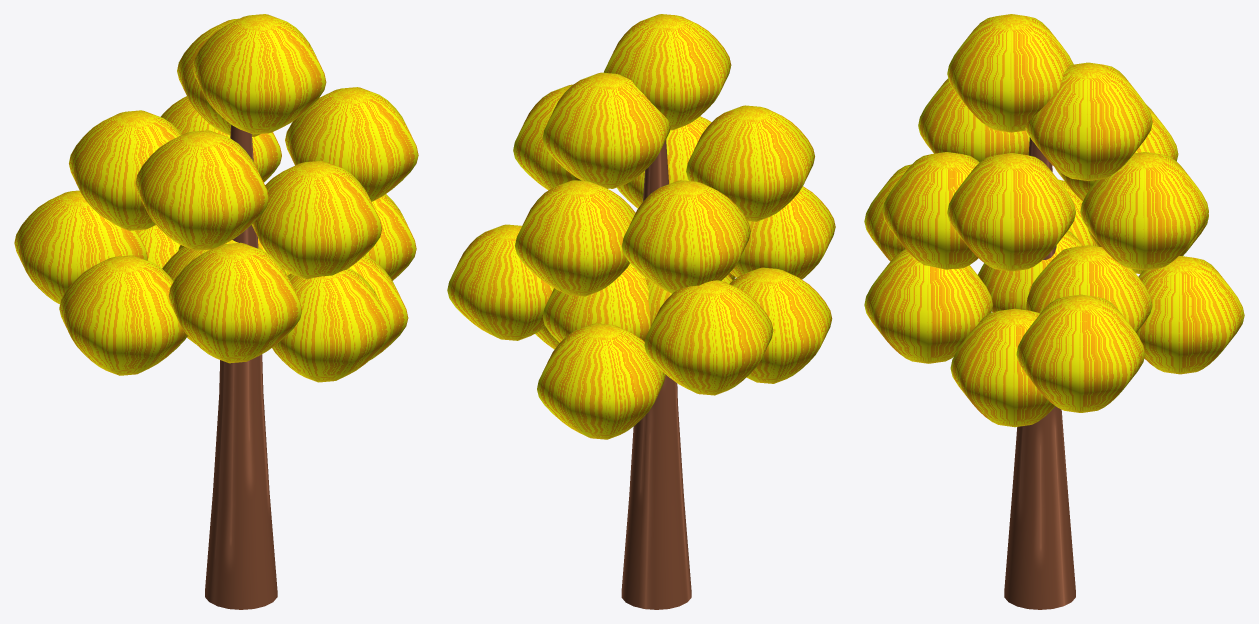
File: kiki.FBX
The picture shows the model from 3 angles, left to right: view 1: azimuth 30°, elevation 25°; view 2: azimuth 150°, elevation 25°; view 3: azimuth 270°, elevation 25°; orthographic projection. The views are drawn at different scales.
Visible parts, largest first — view 1: Cylinder001, Box001, Box007, Box014, Box002, Box013, Box005, Box010, Box004, Box008, Box012, Box003 (+4 smaller); view 2: Cylinder001, Box004, Box015, Box008, Box009, Box003, Box007, Box001, Box012, Box013, Box014, Box006 (+3 smaller); view 3: Cylinder001, Box005, Box012, Box003, Box009, Box001, Box010, Box015, Box016, Box002, Box006, Box007 (+4 smaller).
Boxes of the visible parts, x1,y1,x2,y2 form: Cylinder001: [205, 125, 277, 609]; Box001: [192, 14, 326, 134]; Box007: [135, 130, 268, 250]; Box014: [168, 242, 301, 363]; Box002: [252, 160, 382, 279]; Box013: [59, 255, 187, 375]; Box005: [285, 87, 418, 201]; Box010: [272, 268, 391, 382]; Box004: [14, 190, 147, 304]; Box008: [69, 110, 181, 230]; Box012: [364, 194, 416, 280]; Box003: [160, 96, 281, 182]; Cylinder001: [621, 139, 691, 609]; Box004: [644, 280, 773, 395]; Box015: [537, 323, 665, 439]; Box008: [622, 180, 750, 293]; Box009: [542, 72, 670, 188]; Box003: [515, 180, 635, 296]; Box007: [686, 105, 814, 221]; Box001: [604, 14, 731, 130]; Box012: [447, 224, 553, 340]; Box013: [729, 267, 832, 383]; Box014: [730, 186, 835, 279]; Box006: [542, 263, 650, 342]; Cylinder001: [1004, 137, 1075, 609]; Box005: [947, 153, 1075, 271]; Box012: [1016, 294, 1145, 412]; Box003: [1080, 152, 1208, 270]; Box009: [1025, 62, 1152, 180]; Box001: [947, 14, 1073, 132]; Box010: [864, 249, 992, 363]; Box015: [1136, 256, 1244, 374]; Box016: [950, 308, 1054, 427]; Box002: [882, 152, 979, 269]; Box006: [1026, 245, 1152, 332]; Box007: [918, 78, 1029, 162].
Size of the model in its own units: 1789 by 1669 by 2801.
